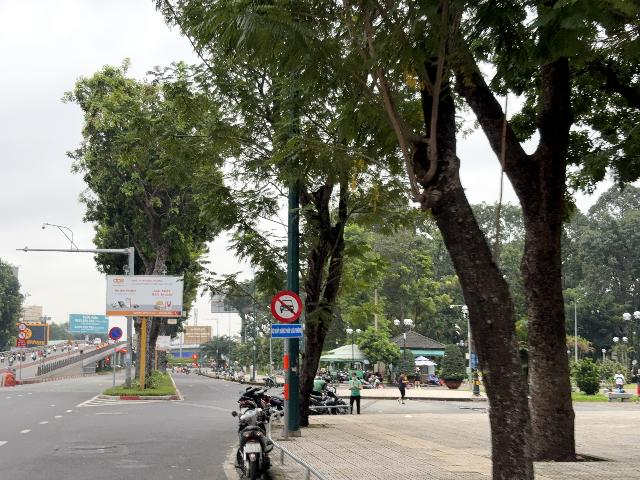cam-o-to: (272, 291, 303, 323)
